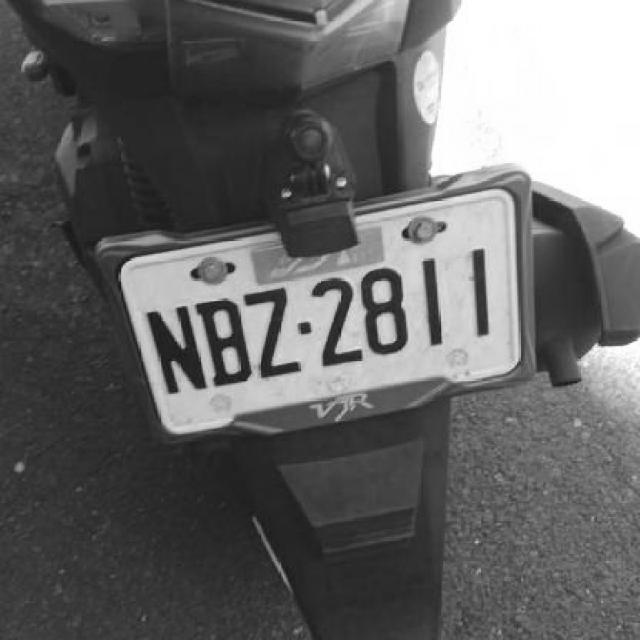-: (292, 315, 314, 337)
1: (466, 243, 492, 340), (418, 254, 444, 348)
2: (310, 270, 364, 365)
8: (356, 262, 412, 354)
B: (193, 295, 253, 386)
N: (142, 302, 207, 395)
Z: (242, 282, 301, 378)
